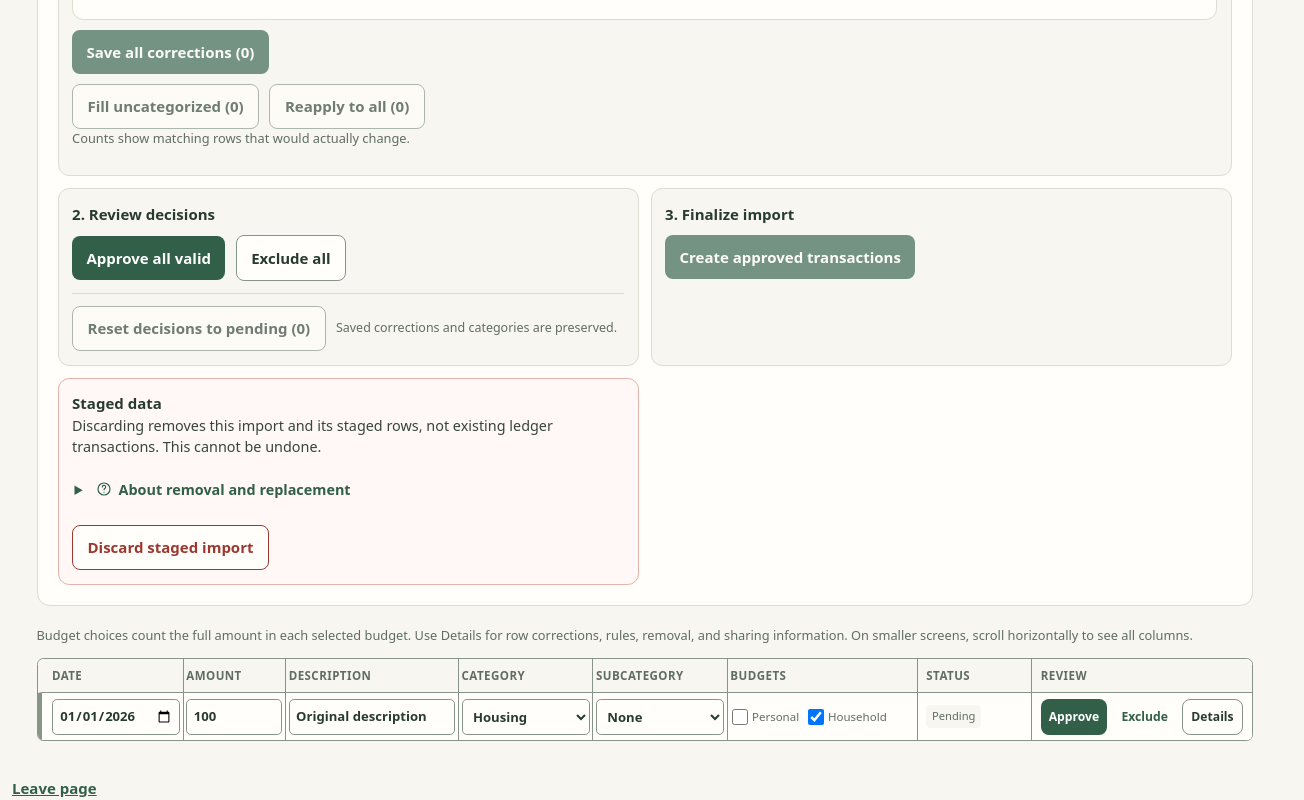
Scenario: staged import edit protection › does not silently acknowledge a new possible duplicate revealed by saving a correction
The image size is (1304, 800).
(page scrolled)
Replace the text in the field named "Description" with "New match" at x=372, y=717, box [289,699,455,735]
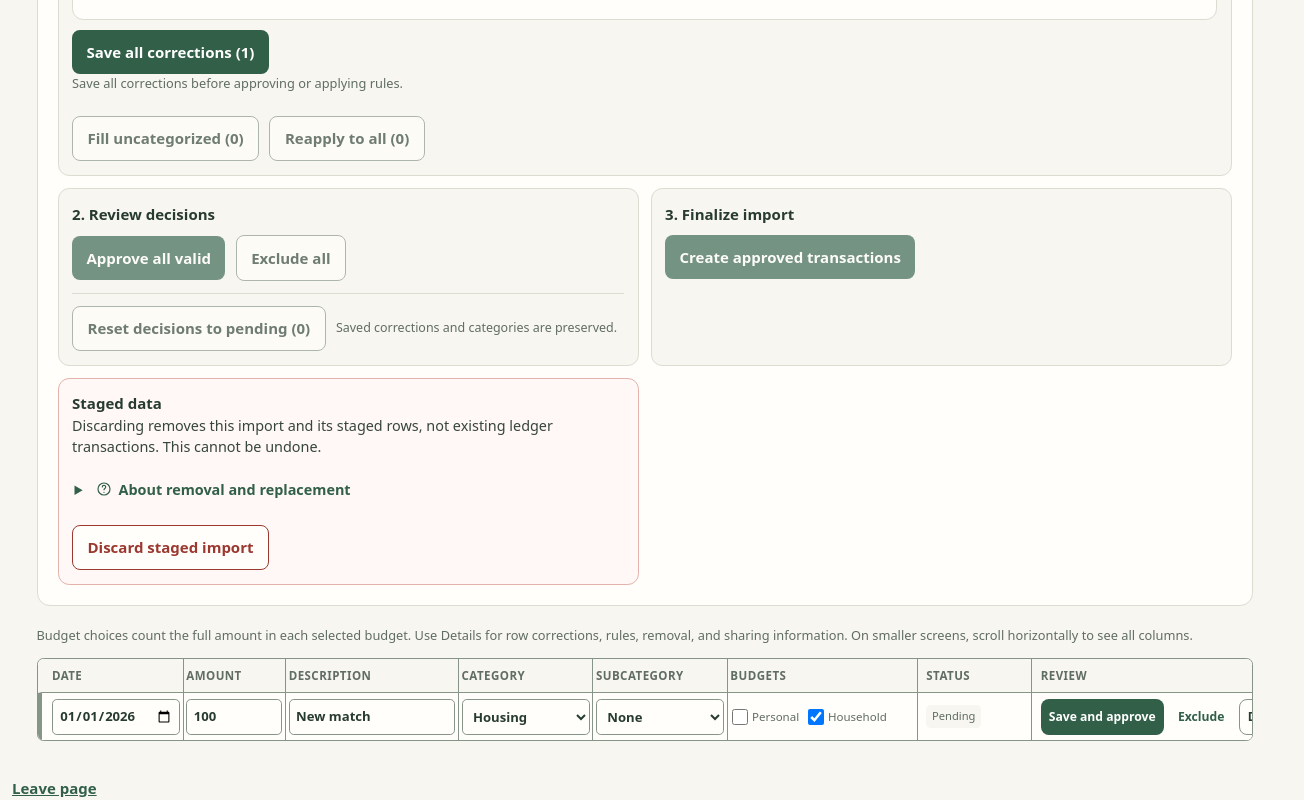
Click the button "Save and approve" at x=1102, y=717, box [1041,699,1164,735]
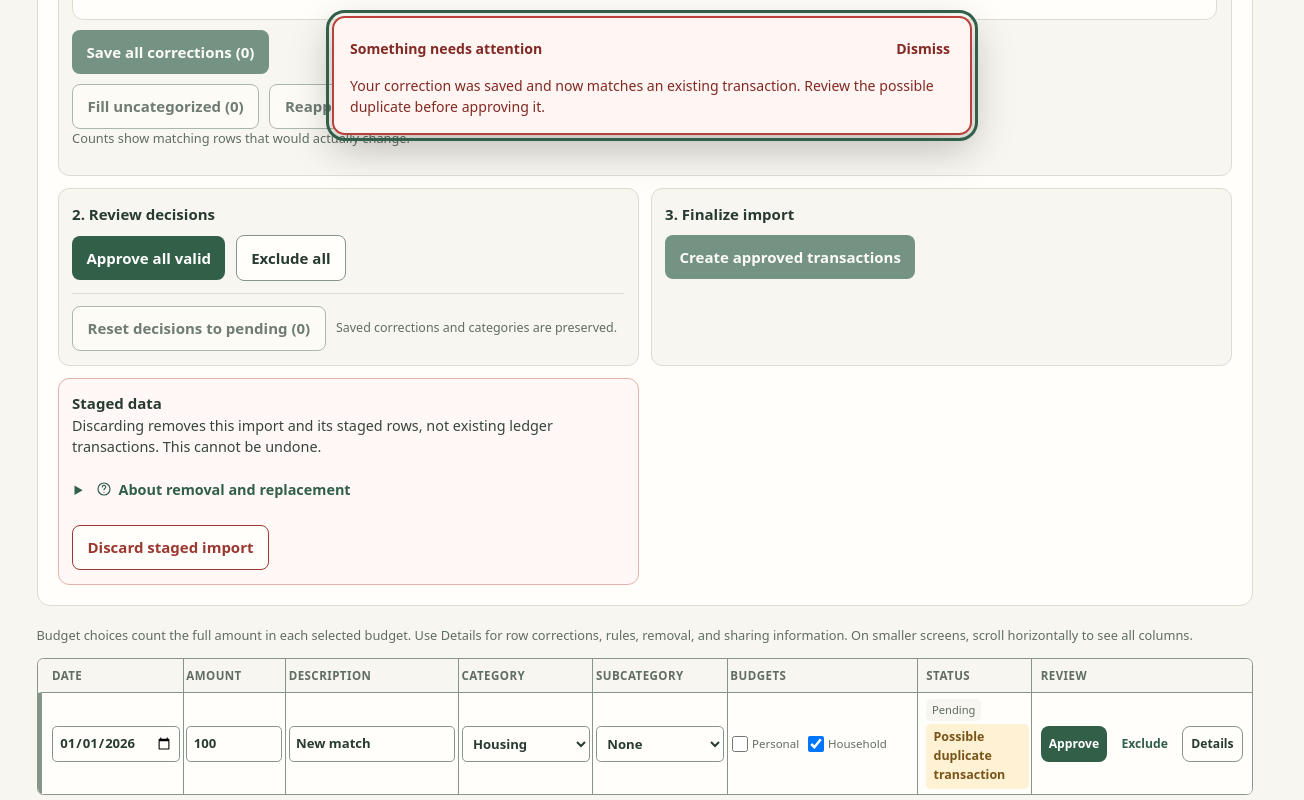
expect the text "Your correction was saved and now matches an existing transaction. Review the possible duplicate before approving it." is shown: met, box [350,76,934,116]
expect the text "Possible duplicate transaction" is shown: met, box [926,724,1029,789]
